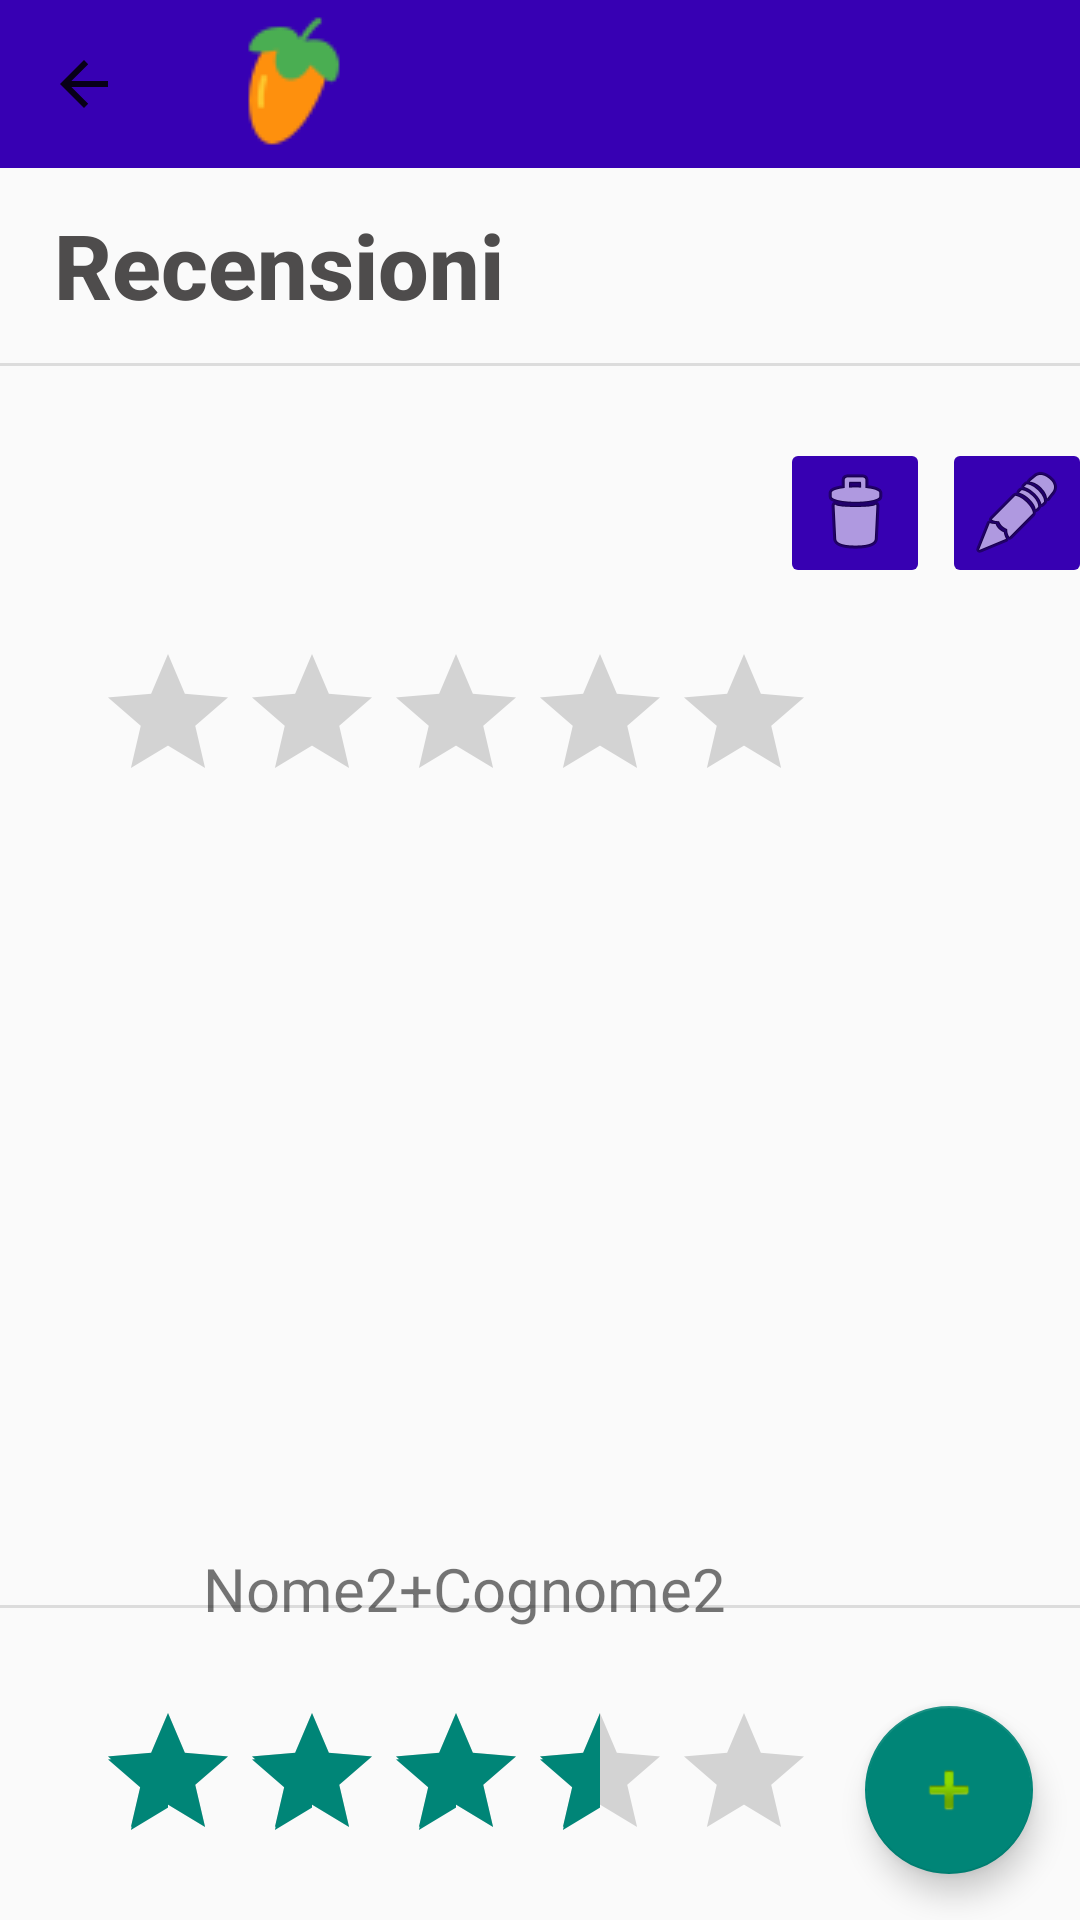

Where icons sit on this 1080w x 1920h app screen, as (x1, y1, x2, y2):
add: (865, 1706, 1033, 1874)
delete: (792, 456, 918, 570)
edit: (954, 456, 1080, 570)
